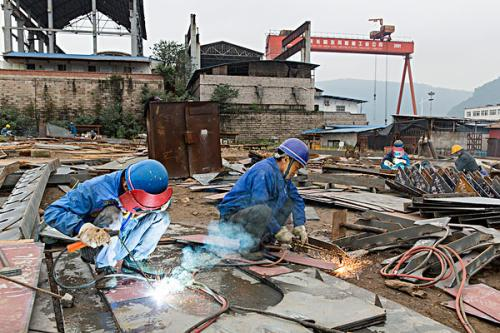helmet: (121, 155, 171, 207), (274, 134, 313, 178), (390, 138, 407, 155), (449, 143, 466, 158)
